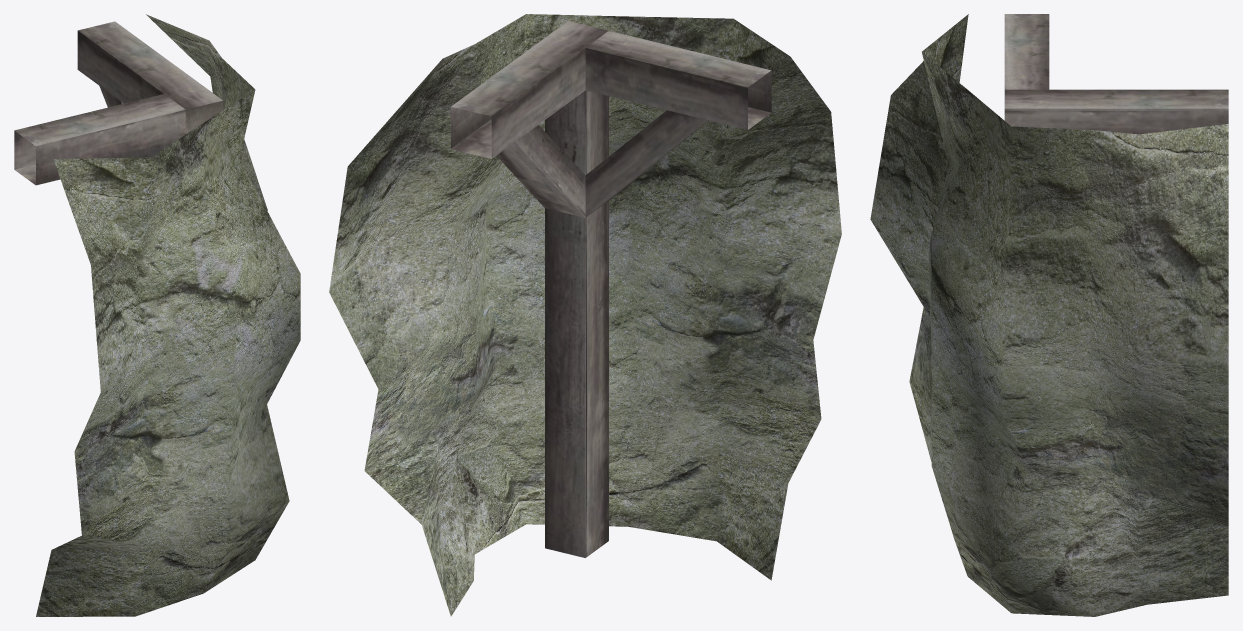
Rendered from Wall_CornerInner.FBX.
The picture shows the model from 3 angles, left to right: view 1: azimuth 30°, elevation 25°; view 2: azimuth 150°, elevation 25°; view 3: azimuth 270°, elevation 25°; orthographic projection. The views are drawn at different scales.
Visible parts, largest first — view 1: CornerInner; view 2: CornerInner; view 3: CornerInner.
Boxes of the visible parts, box(x1,y1,x2,y2) form: CornerInner: box(14, 14, 300, 616); CornerInner: box(329, 14, 841, 616); CornerInner: box(870, 14, 1228, 616).
Size of the model in its own units: 200 by 300 by 200.
